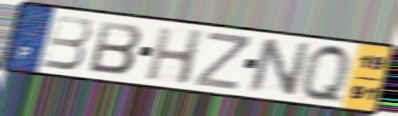B: (86, 19, 145, 76), (40, 13, 94, 72)
H: (143, 26, 208, 87)
N: (246, 37, 314, 99)
Q: (300, 41, 353, 107)
Z: (192, 30, 252, 92)
